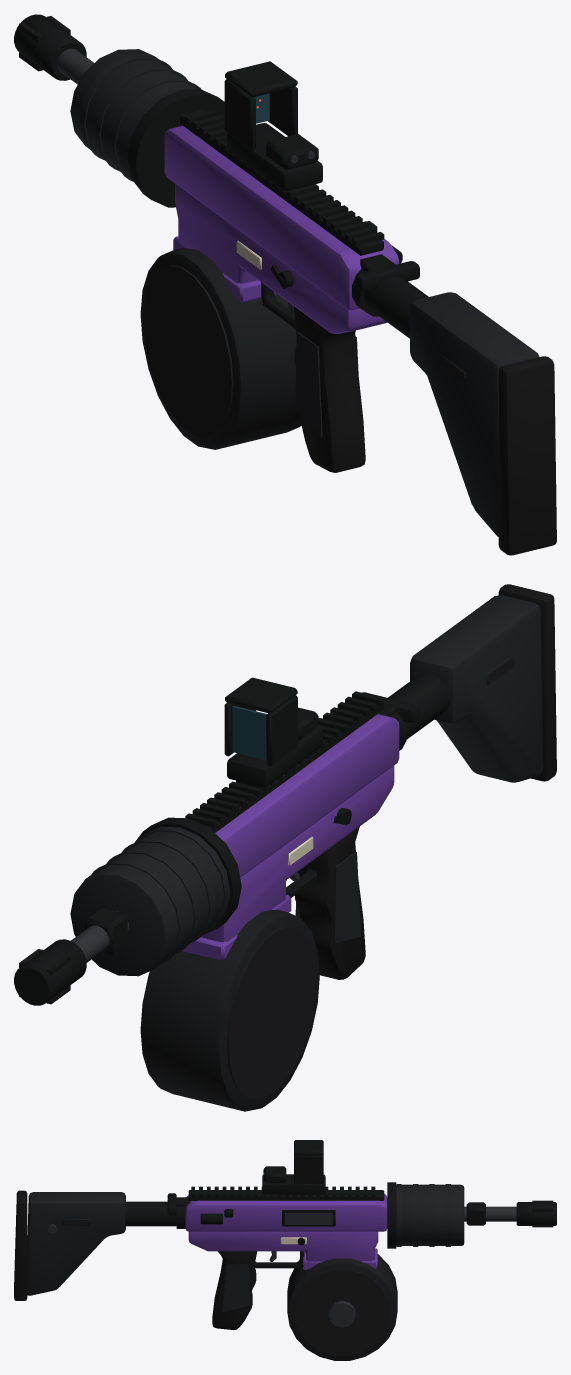
Rendered from gun_24.glb.
The picture shows the model from 3 angles, top to bottom: view 1: azimuth 30°, elevation 25°; view 2: azimuth 150°, elevation 25°; view 3: azimuth 270°, elevation 25°; orthographic projection. The views are drawn at different scales.
Parts seen in each view (by area): view 1: gun_24; view 2: gun_24; view 3: gun_24.
Part boxes in pixels (x1,y1,x2,y2): gun_24: [14, 14, 556, 555]; gun_24: [14, 584, 556, 1111]; gun_24: [14, 1140, 556, 1360].
Size of the model in its own units: 0.0887 by 0.3038 by 0.7273.
